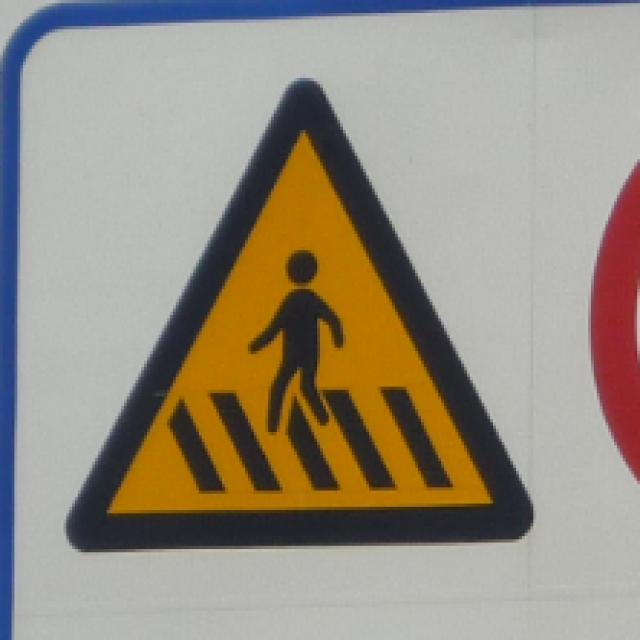Crossing: (62, 58, 558, 557)
